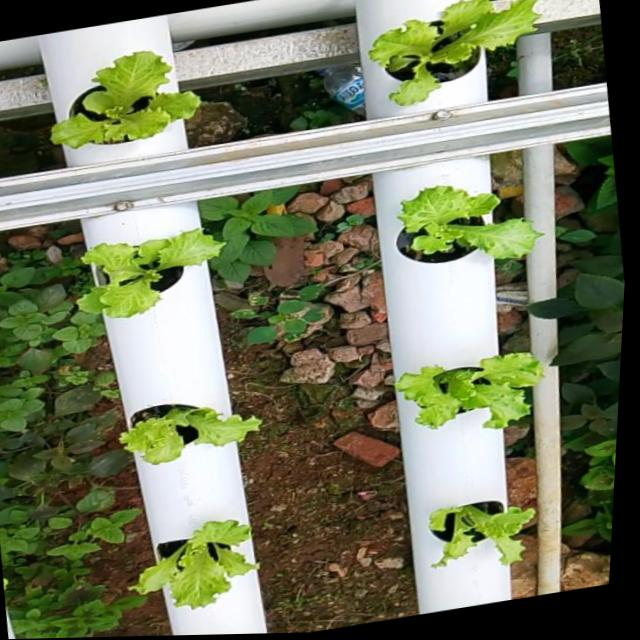Baby: (377, 0, 549, 112), (57, 54, 206, 168), (83, 230, 233, 321), (131, 520, 261, 609), (396, 352, 546, 429), (396, 186, 543, 264), (121, 404, 263, 465), (431, 500, 537, 566)
